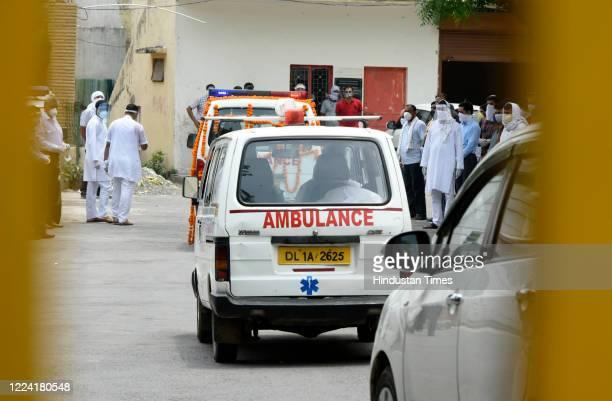Emergency-Vehicles: (170, 117, 443, 375)
